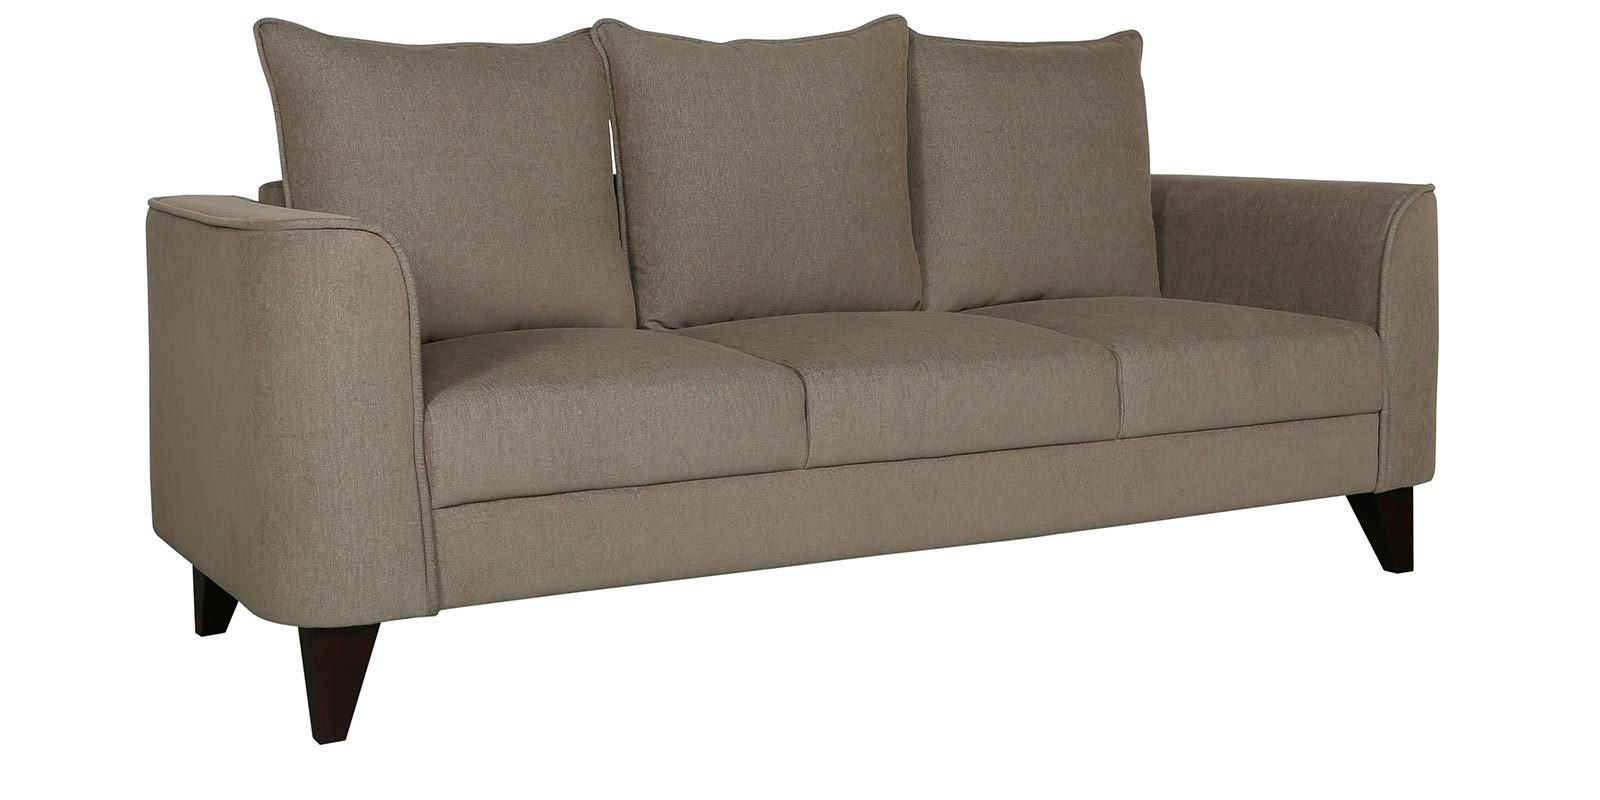Lara Three Seater Sofa in Sandy Brown Colour by CasaCraft: (146, 14, 1439, 744)
